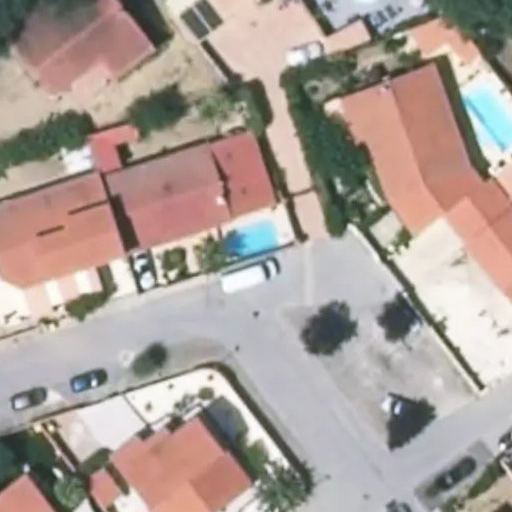pool: (223, 238, 285, 249)
